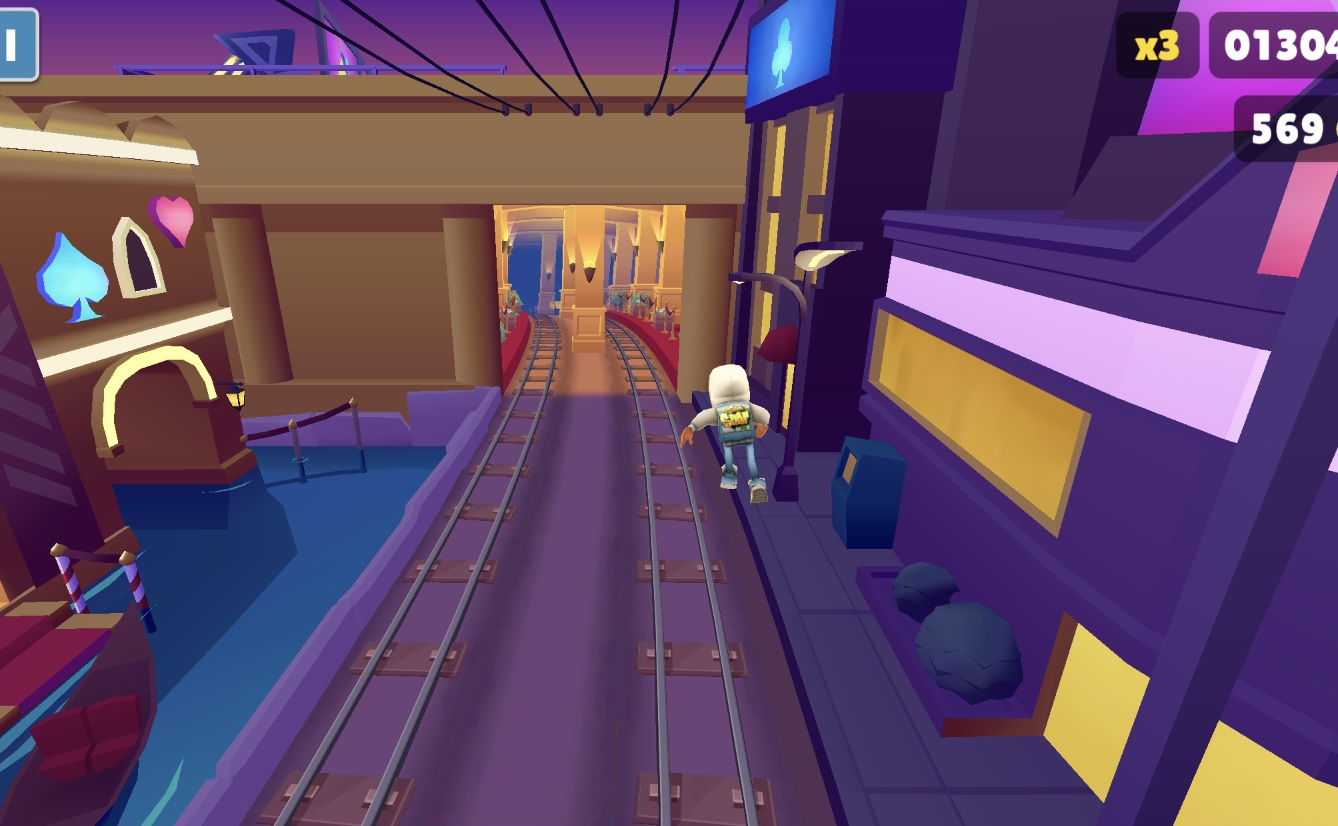pillar: (562, 205, 609, 354)
